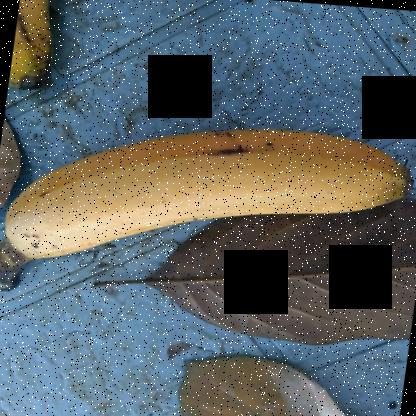freshripe: (1, 118, 402, 268)
